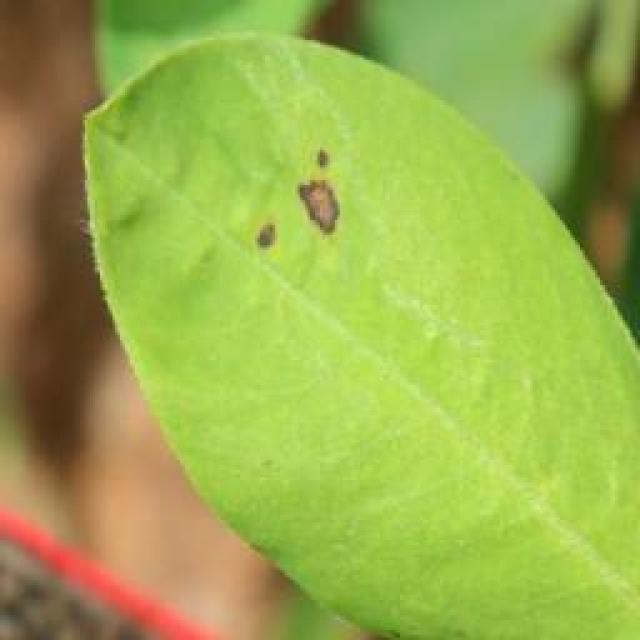Sigatoka: (238, 134, 384, 288)
